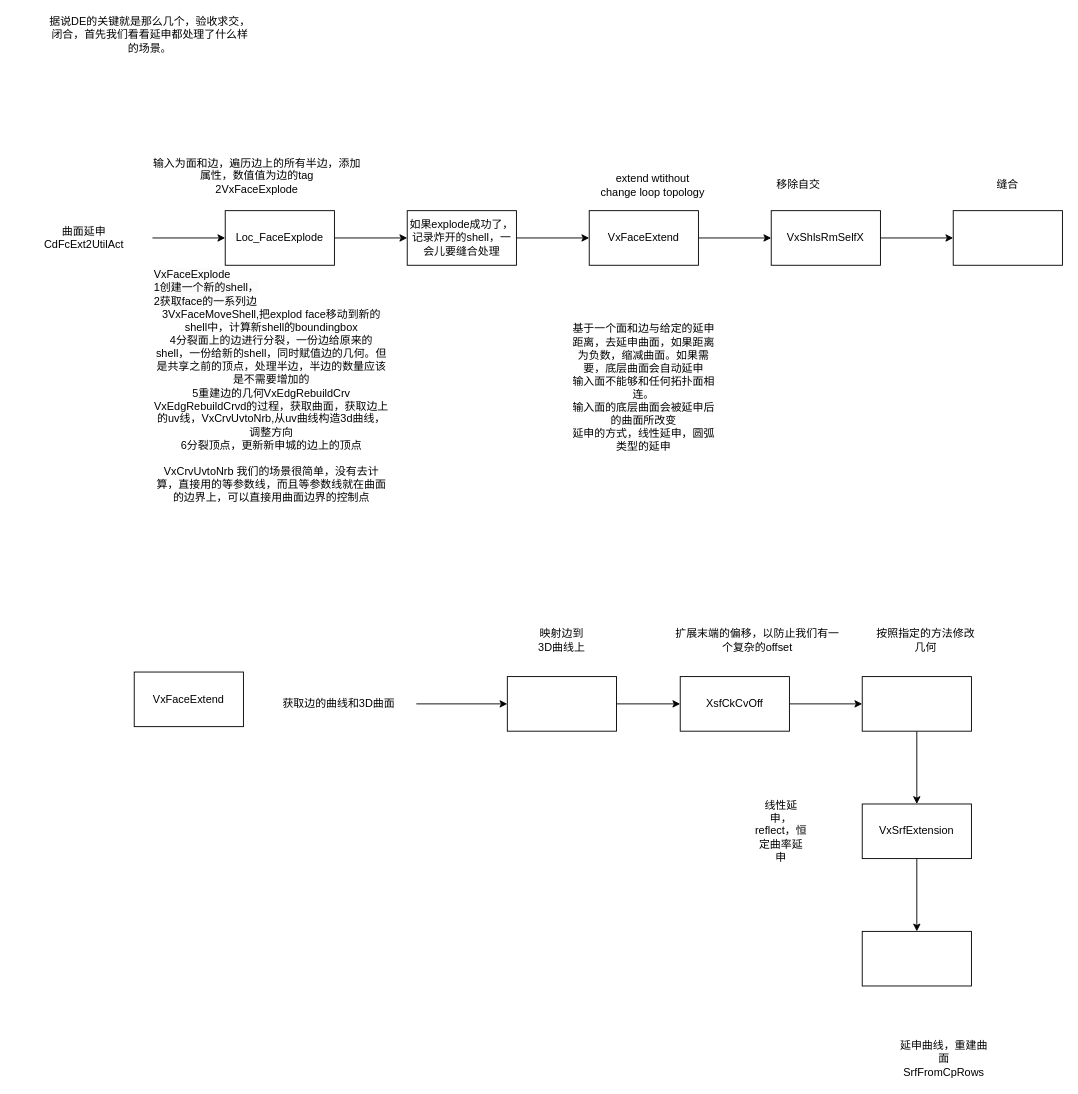
Image size: 1078x1094. Some labels were removed from this diagram. The centre of each missing label's shape, as x and y in pixels:
static_Extend: the point at 916,958
VxNrbModGeom: the point at 916,703
VxShlSew: the point at 1007,237
XsfMapEdgToLp: the point at 561,703
